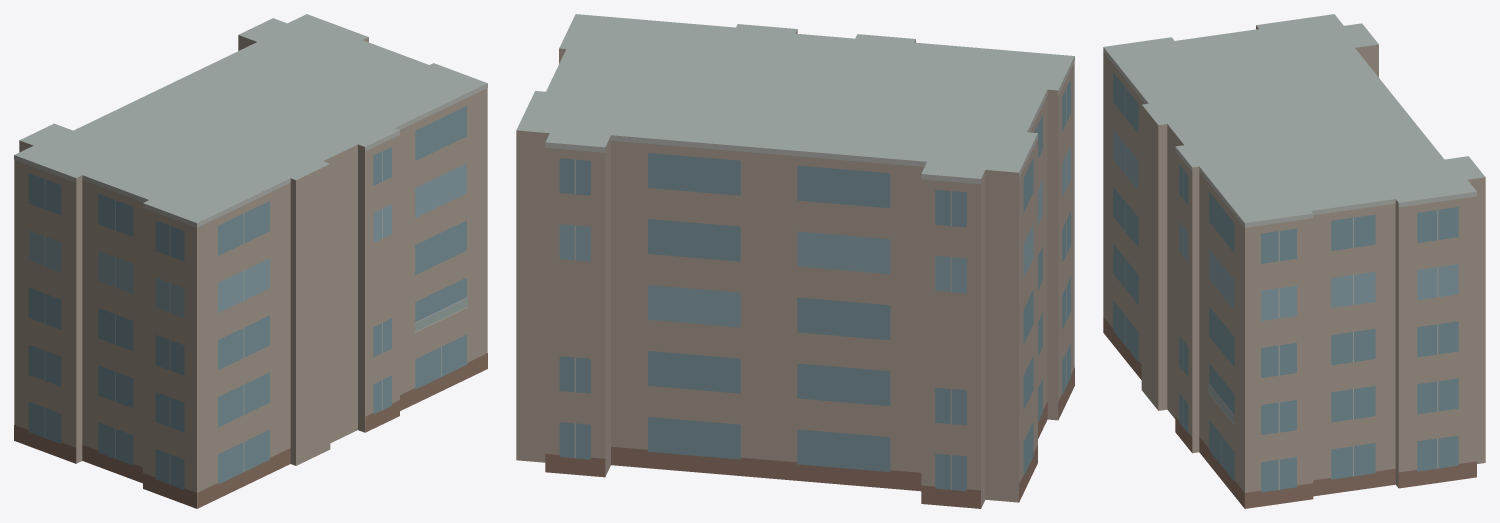
File: survey-upis-32625832.glb
The picture shows the model from 3 angles, left to right: view 1: azimuth 30°, elevation 25°; view 2: azimuth 150°, elevation 25°; view 3: azimuth 270°, elevation 25°; orthographic projection. The views are drawn at different scales.
Parts seen in each view (by area): view 1: survey-upis-32625832.tmp; view 2: survey-upis-32625832.tmp; view 3: survey-upis-32625832.tmp.
Part boxes in pixels (x1,y1,x2,y2): survey-upis-32625832.tmp: [14, 14, 487, 508]; survey-upis-32625832.tmp: [516, 14, 1074, 508]; survey-upis-32625832.tmp: [1103, 14, 1485, 508].
Size of the model in its own units: 23.42 by 14.9 by 18.08.
